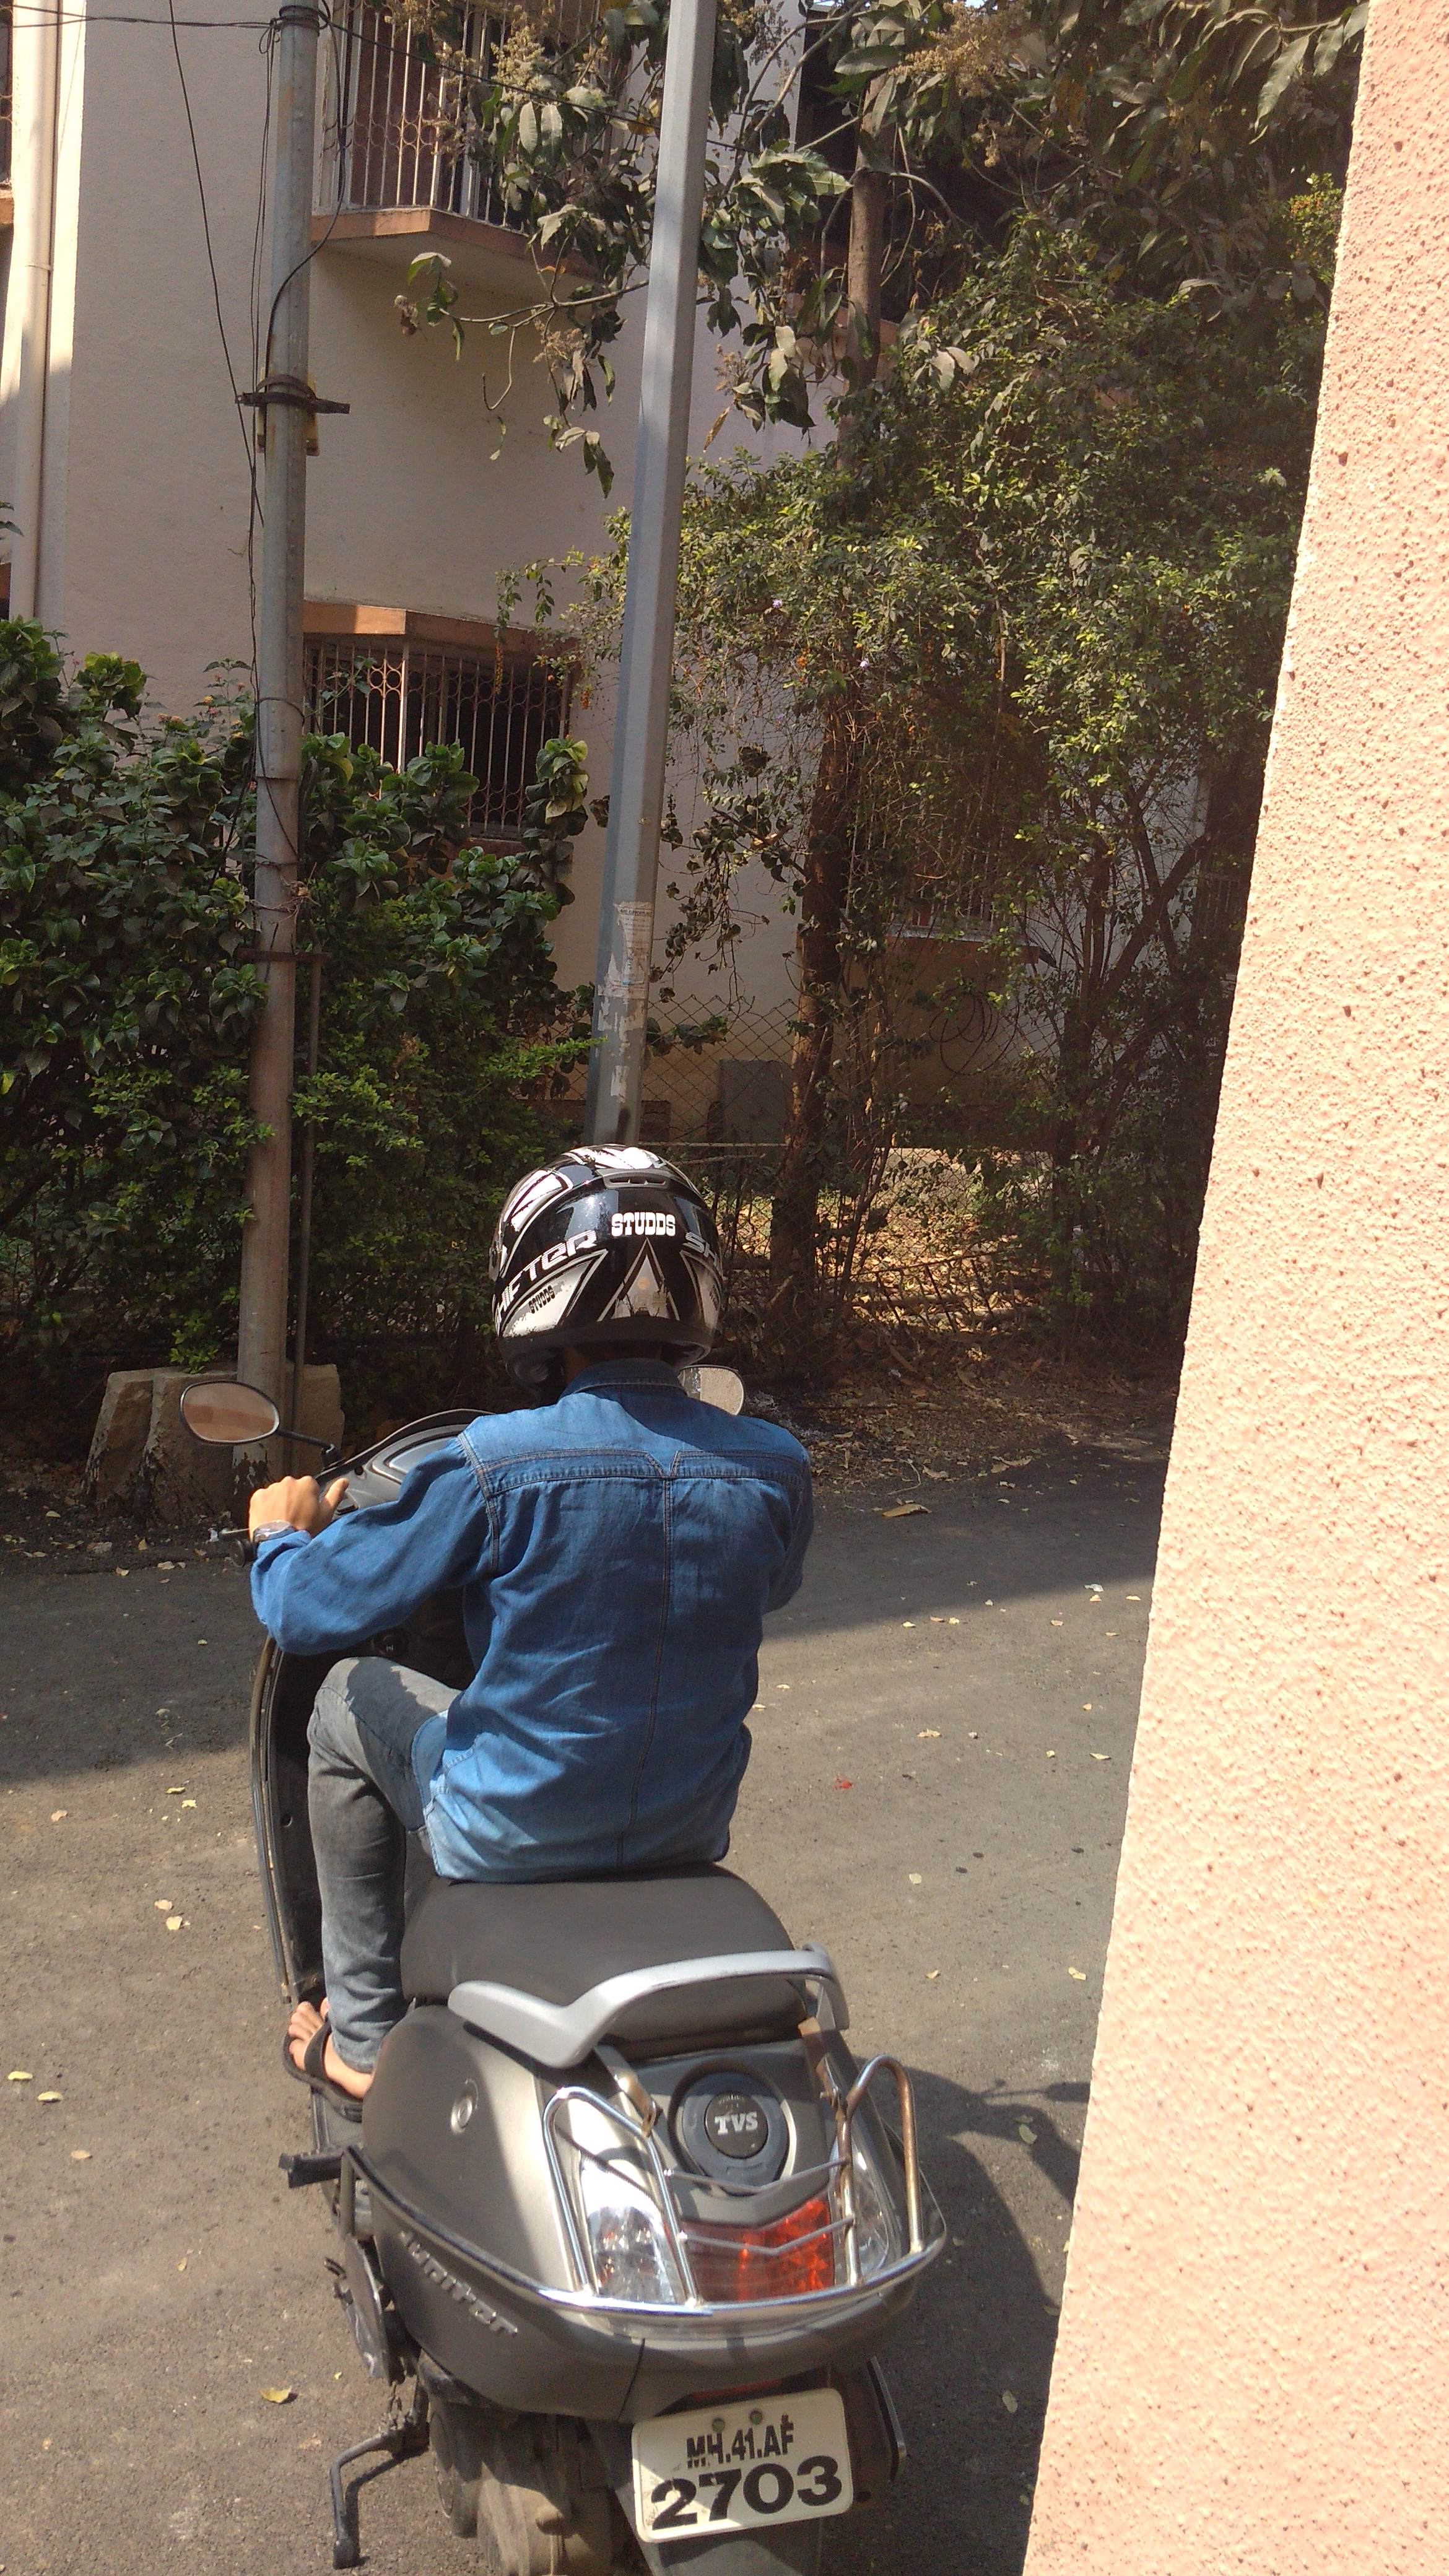helmet: (265, 1161, 856, 1911)
